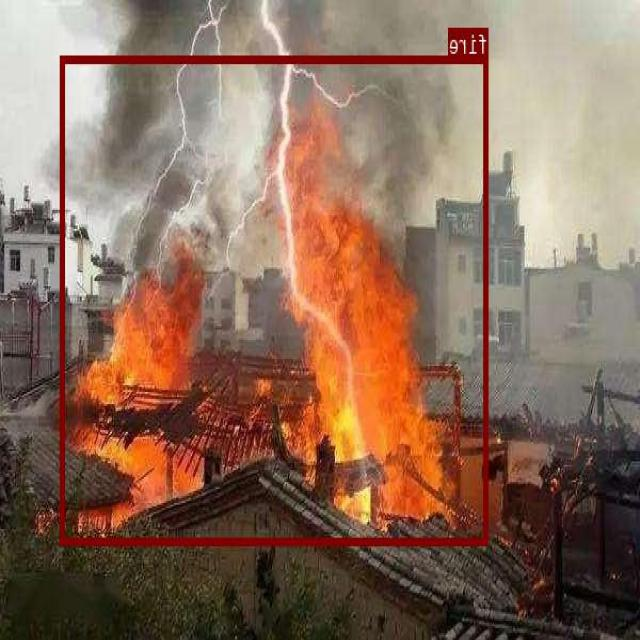fire: (61, 56, 488, 544)
